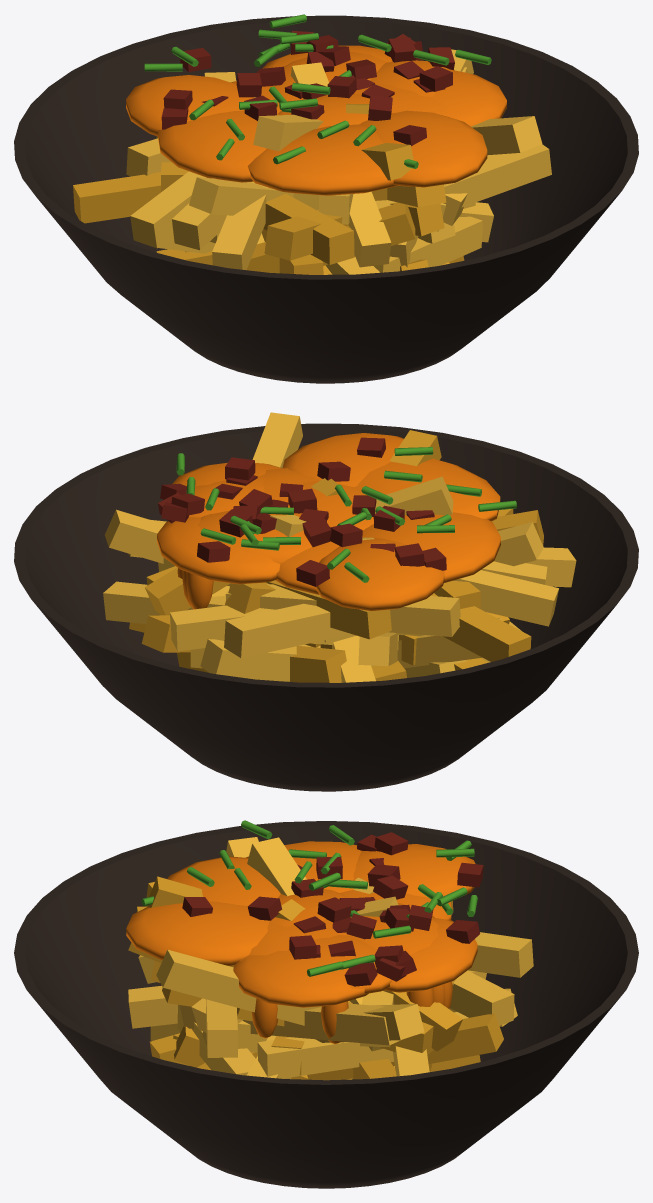
File: batata-cheddar-bacon.glb
3 views of the same model, one above another, from view 1: azimuth 30°, elevation 25°; view 2: azimuth 150°, elevation 25°; view 3: azimuth 270°, elevation 25° (orthographic).
Visible parts, largest first — view 1: batata-cheddar-bacon; view 2: batata-cheddar-bacon; view 3: batata-cheddar-bacon.
Boxes of the visible parts, x1=… form: batata-cheddar-bacon: x1=14, y1=14, x2=638, y2=383; batata-cheddar-bacon: x1=14, y1=412, x2=638, y2=791; batata-cheddar-bacon: x1=14, y1=820, x2=638, y2=1188.
Size of the model in its own units: 0.14 by 0.06 by 0.14.
